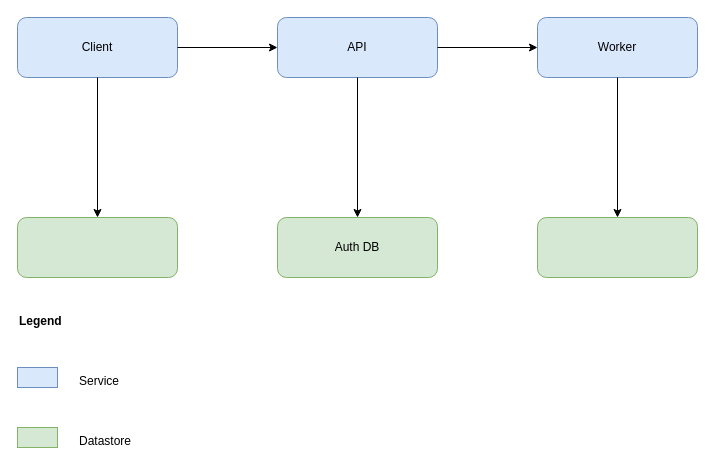
The diagram is 715 pixels wide and 466 high, and some of its shapes have lost their labels. The box of each missing label's shape, as (x1, y1, x2, y2) in pixels:
Cache: (16, 216, 178, 278)
Queue: (536, 216, 698, 278)
